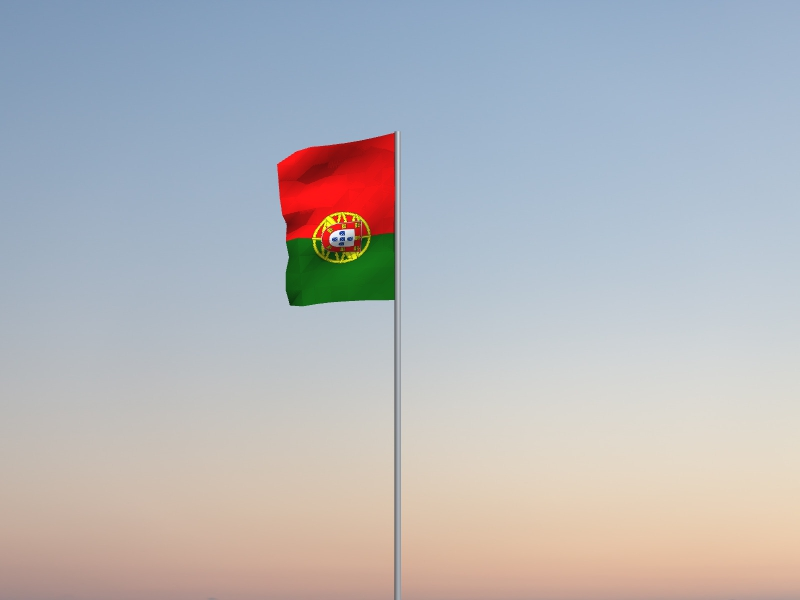pt: (276, 133, 395, 308)
